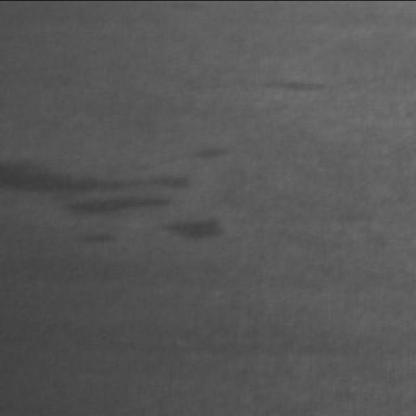inclusion: (4, 140, 231, 242), (158, 206, 241, 248), (260, 69, 335, 98)
